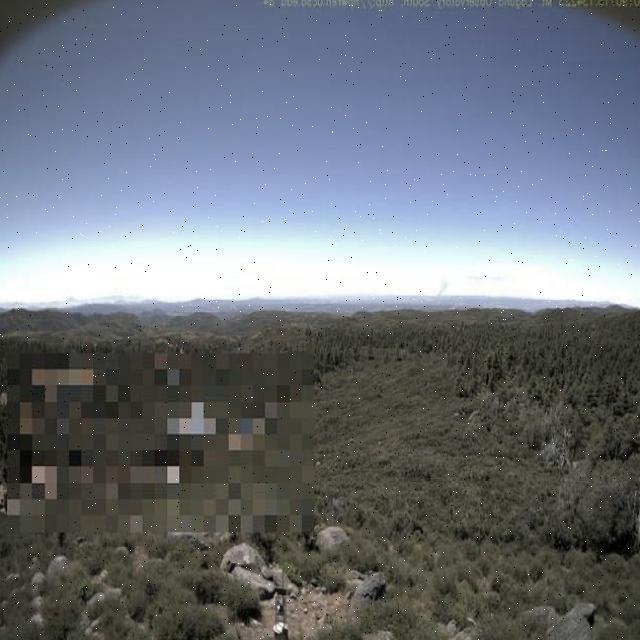smoke: (435, 274, 456, 298)
